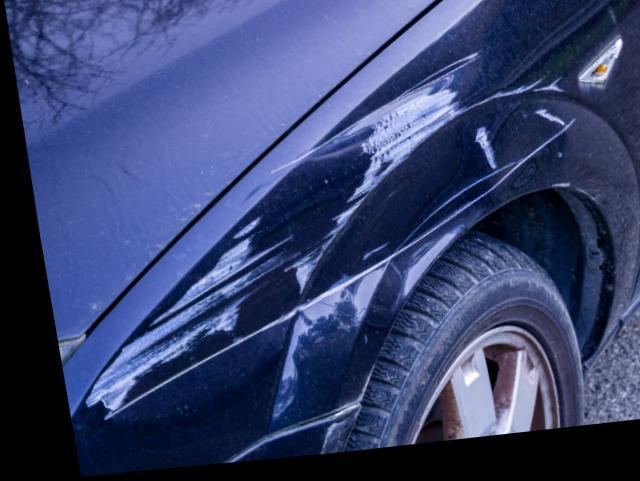dent: (292, 195, 470, 318)
scratch: (70, 58, 570, 420)
